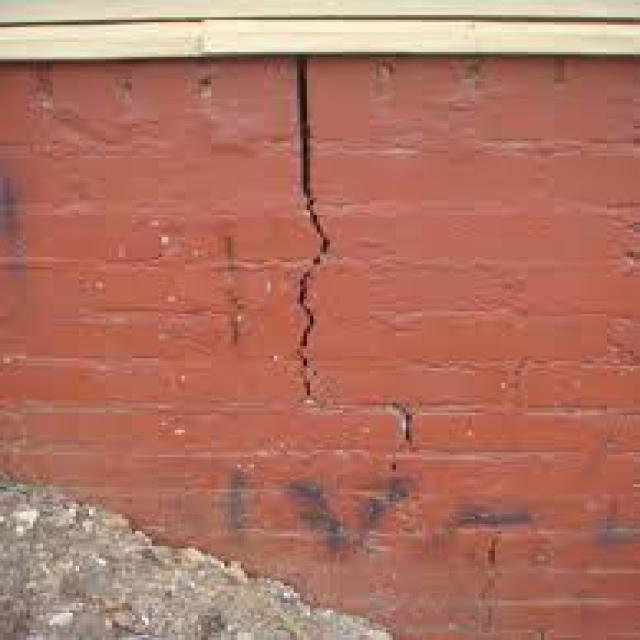Crack: (320, 396, 551, 638), (287, 54, 330, 403)
